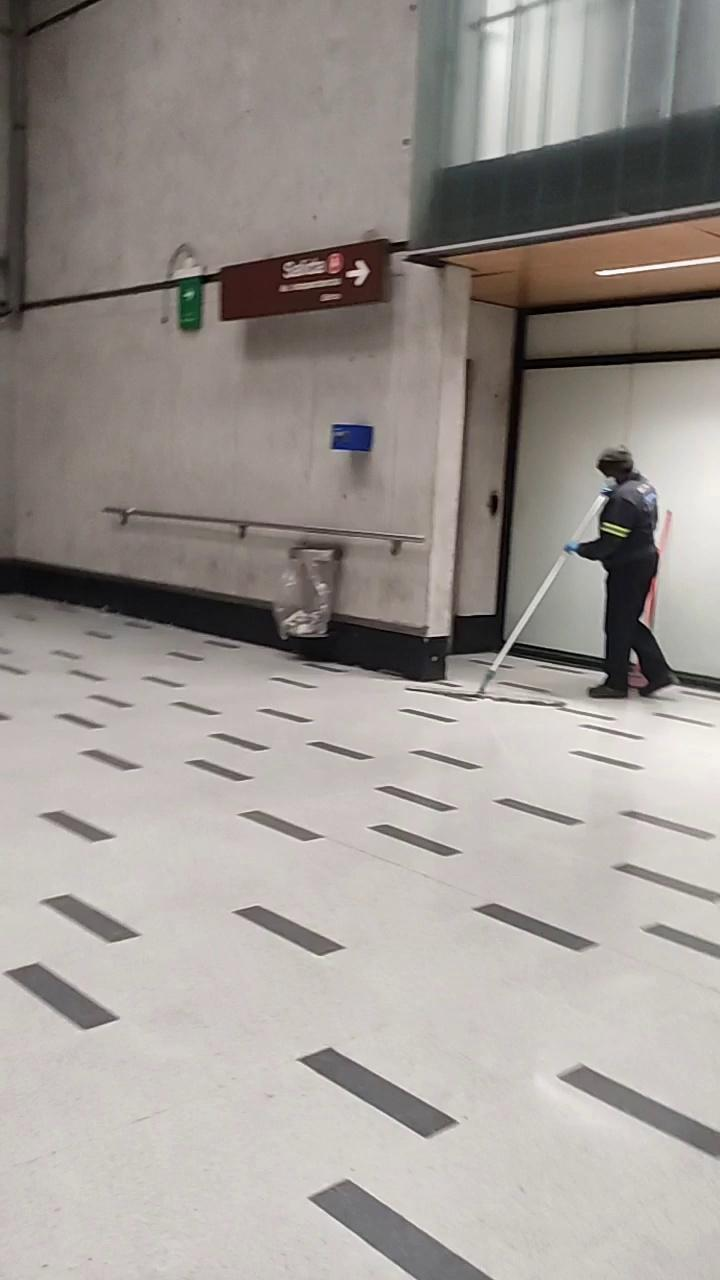right arrow: (344, 256, 374, 294)
